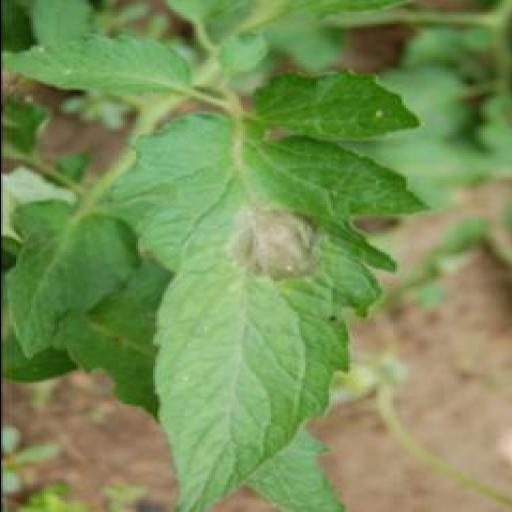Late Blight: (104, 111, 434, 512)
